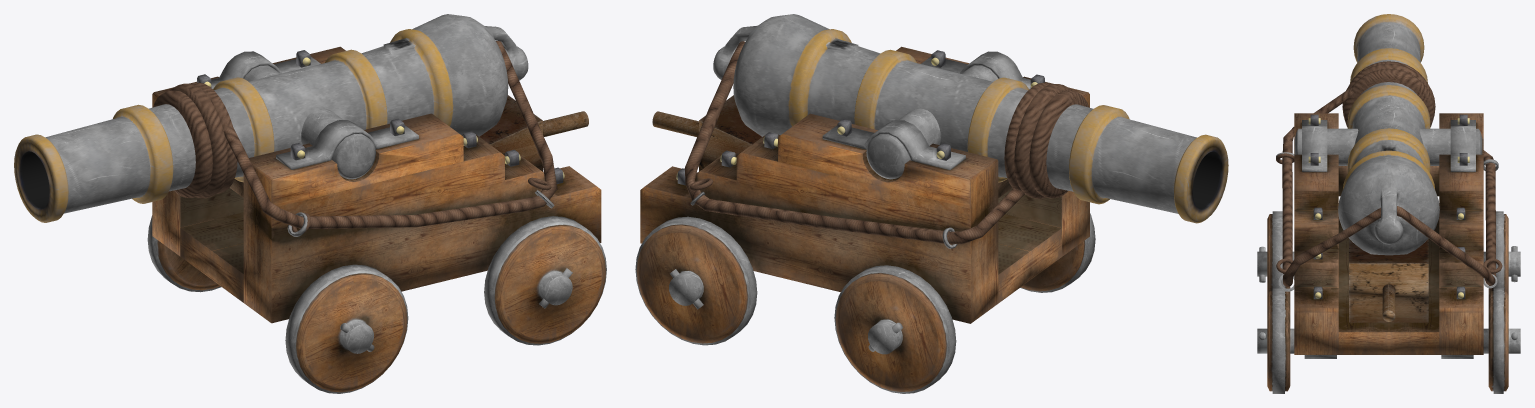
File: cannon.glb
3 renders of one model, left to right at view 1: azimuth 30°, elevation 25°; view 2: azimuth 150°, elevation 25°; view 3: azimuth 270°, elevation 25°, orthographic. The views are drawn at different scales.
Visible parts, largest first — view 1: Frame_12, Canon_14, Wheels.002_21, Wheels.003_20, Rope_17, RopeCoil_18, FrameIron_19, FrameLatch_15, Canon SPIN_13; view 2: Frame_12, Canon_14, Wheels.002_21, Wheels.003_20, Rope_17, RopeCoil_18, FrameIron_19, FrameLatch_15, Canon SPIN_13; view 3: Frame_12, Canon_14, FrameLatch_15, Wheels.003_20, Rope_17, Wheels.002_21, FrameIron_19, RopeCoil_18, Canon SPIN_13, Rings_16.
Boxes of the visible parts, x1,y1,x2,y2 form: Frame_12: [152, 46, 601, 323]; Canon_14: [14, 14, 528, 222]; Wheels.002_21: [147, 215, 408, 393]; Wheels.003_20: [484, 216, 606, 345]; Rope_17: [223, 41, 557, 228]; RopeCoil_18: [153, 82, 237, 198]; FrameIron_19: [211, 51, 418, 169]; FrameLatch_15: [479, 95, 588, 171]; Canon SPIN_13: [244, 65, 375, 179]; Frame_12: [640, 46, 1089, 323]; Canon_14: [713, 14, 1228, 223]; Wheels.002_21: [834, 213, 1095, 393]; Wheels.003_20: [635, 216, 757, 345]; Rope_17: [684, 41, 1024, 244]; RopeCoil_18: [1004, 82, 1089, 198]; FrameIron_19: [822, 51, 1030, 169]; FrameLatch_15: [652, 95, 761, 171]; Canon SPIN_13: [866, 54, 1017, 179]; Frame_12: [1294, 113, 1483, 354]; Canon_14: [1338, 14, 1439, 255]; FrameLatch_15: [1349, 238, 1428, 322]; Wheels.003_20: [1257, 288, 1520, 393]; Rope_17: [1282, 87, 1496, 286]; Wheels.002_21: [1257, 211, 1520, 295]; FrameIron_19: [1302, 120, 1475, 171]; RopeCoil_18: [1342, 61, 1435, 127]; Canon SPIN_13: [1295, 128, 1482, 165]; Rings_16: [1276, 152, 1498, 291].
Size of the model in its own units: 40.09 by 19.2 by 20.9.
Materials: 9 (9 with a texture image).
